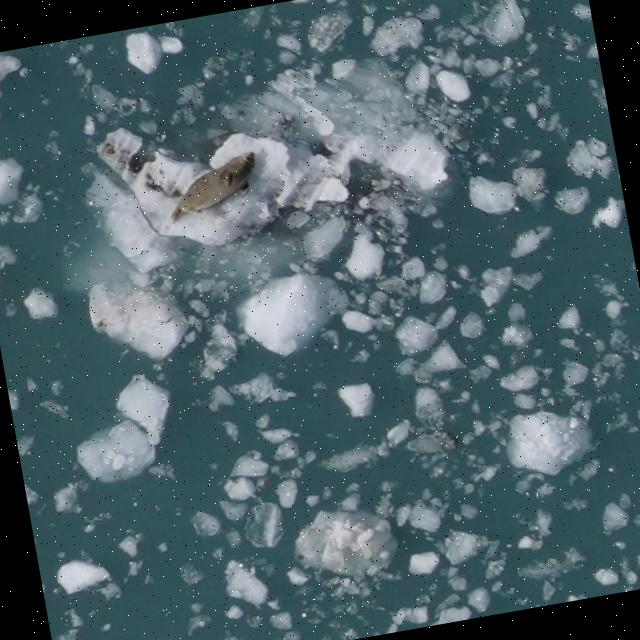seal: (169, 153, 255, 224)
